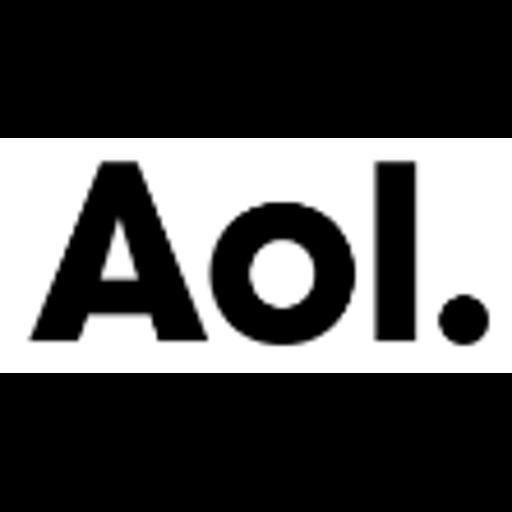AOL: (0, 138, 512, 373)
